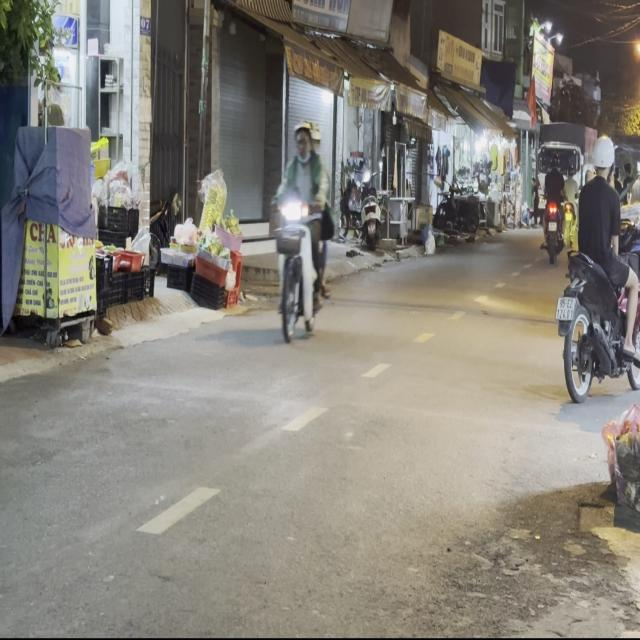helmet: (591, 134, 614, 178), (292, 117, 313, 158)
licenseplate: (554, 132, 638, 402), (268, 115, 334, 342)
nohelmet: (556, 296, 576, 319)
